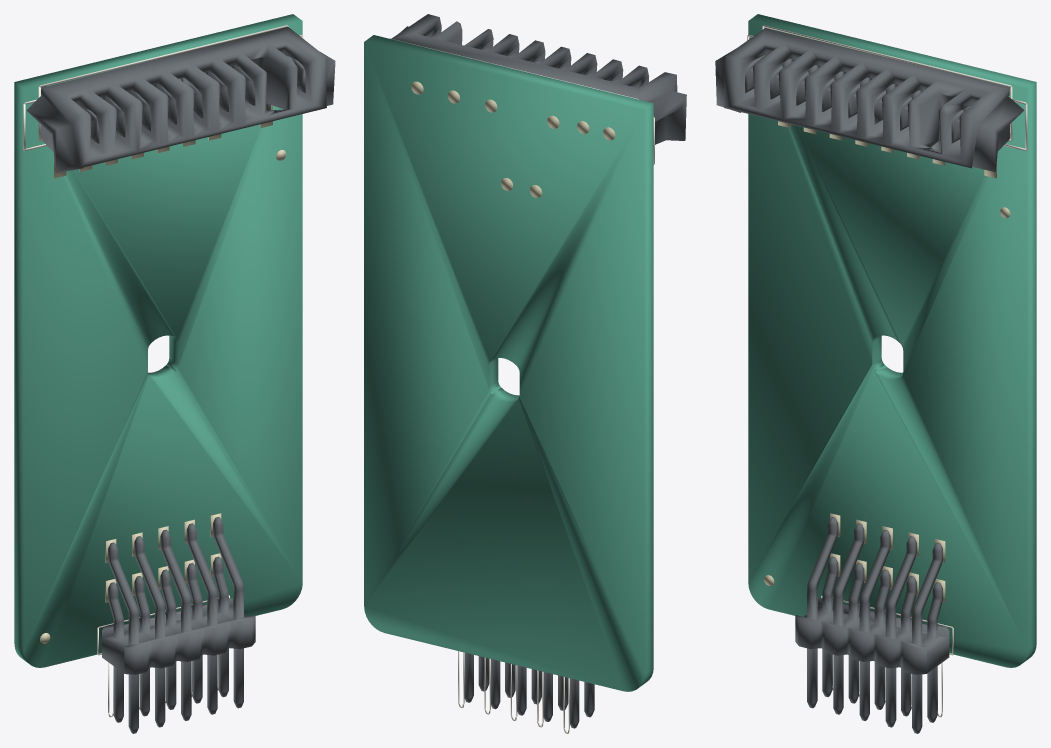
File: pcb-conn-amp.glb
3 views of the same model, side by side, from view 1: azimuth 30°, elevation 25°; view 2: azimuth 150°, elevation 25°; view 3: azimuth 330°, elevation 25° (orthographic).
Visible parts, largest first — view 1: pcb, body, pads, silk; view 2: pcb, body, silk, pads; view 3: pcb, body, pads, silk.
Boxes of the visible parts, x1=… form: pcb: x1=14, y1=14, x2=302, y2=667; body: x1=26, y1=27, x2=335, y2=733; pads: x1=40, y1=105, x2=286, y2=643; silk: x1=23, y1=25, x2=303, y2=717; pcb: x1=364, y1=35, x2=653, y2=691; body: x1=391, y1=14, x2=686, y2=728; silk: x1=389, y1=38, x2=654, y2=733; pads: x1=411, y1=81, x2=615, y2=197; pcb: x1=748, y1=14, x2=1036, y2=667; body: x1=715, y1=28, x2=1024, y2=733; pads: x1=764, y1=121, x2=1010, y2=602; silk: x1=747, y1=25, x2=1027, y2=717.
Bounding box in the file's own units: 27.15 × 60.06 × 8.34.
